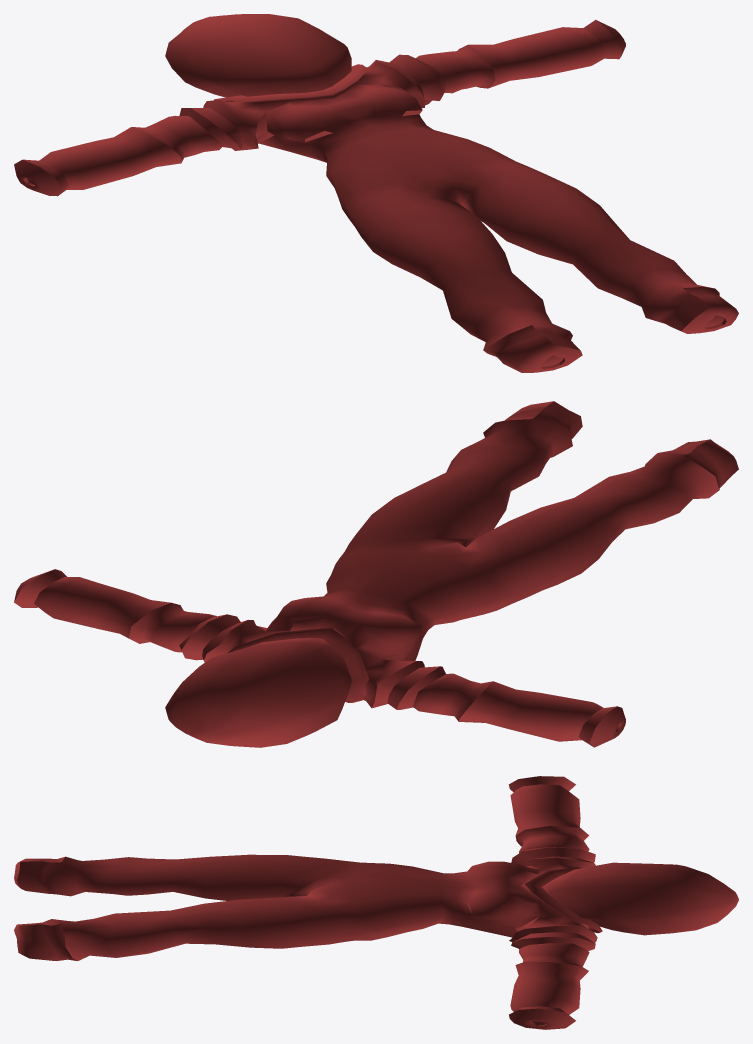
The model's file is W_Chempak_Level.FBX.
3 renders of one model, top to bottom at view 1: azimuth 30°, elevation 25°; view 2: azimuth 150°, elevation 25°; view 3: azimuth 270°, elevation 25°, orthographic. The views are drawn at different scales.
Parts seen in each view (by area): view 1: VOL4; view 2: VOL4; view 3: VOL4.
Part boxes in pixels (bbox=[...]): VOL4: bbox=[14, 14, 738, 372]; VOL4: bbox=[14, 401, 738, 747]; VOL4: bbox=[14, 776, 738, 1029].
Bounding box in the file's own units: 77.84 × 5.97 × 97.47.
